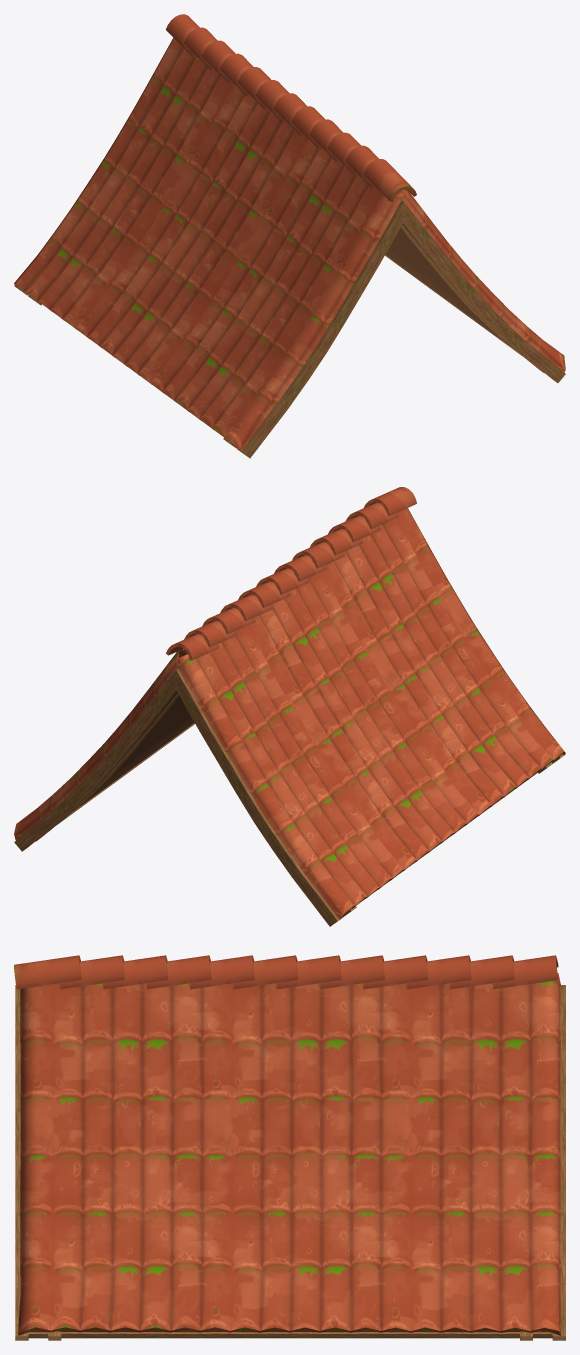
The model's file is Roof_RoundTiles_6x8.gltf.
The picture shows the model from 3 angles, top to bottom: view 1: azimuth 30°, elevation 25°; view 2: azimuth 150°, elevation 25°; view 3: azimuth 270°, elevation 25°; orthographic projection. The views are drawn at different scales.
Visible parts, largest first — view 1: Roof_RoundTiles_6x8; view 2: Roof_RoundTiles_6x8; view 3: Roof_RoundTiles_6x8.
Boxes of the visible parts, box(x1,y1,x2,y2) form: Roof_RoundTiles_6x8: box(14, 14, 565, 458); Roof_RoundTiles_6x8: box(14, 487, 565, 926); Roof_RoundTiles_6x8: box(14, 955, 565, 1340).
Size of the model in its own units: 8.25 by 5.67 by 9.68.
2 materials, 2 textured.
